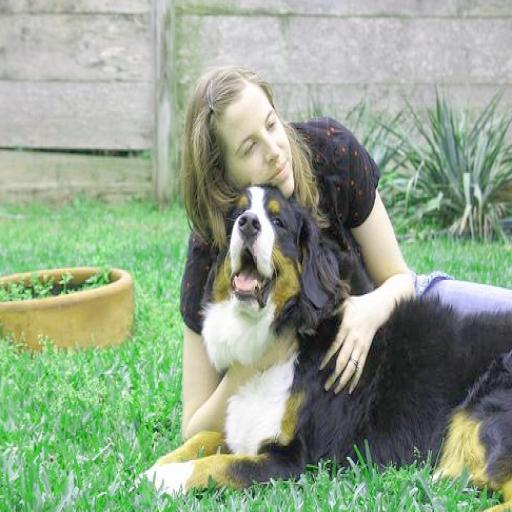dog_face: (219, 186, 311, 310)
